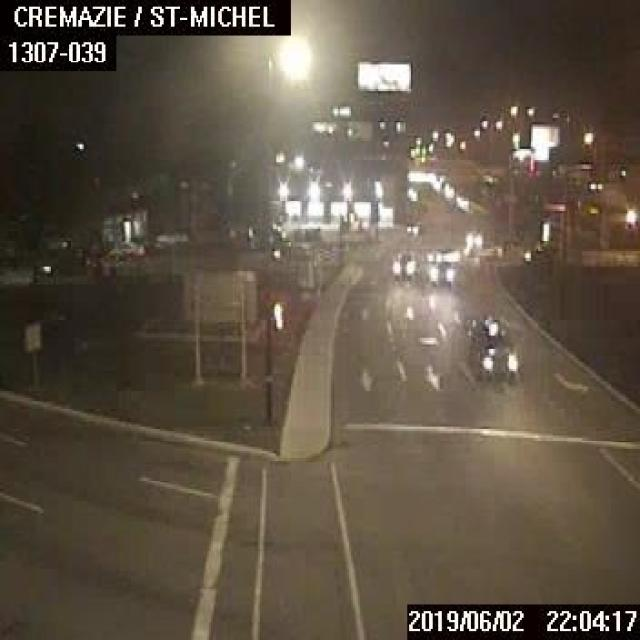vehicle: (464, 313, 518, 380), (424, 258, 453, 286), (391, 250, 414, 282), (520, 244, 556, 263), (107, 239, 145, 256), (463, 228, 482, 248), (405, 220, 420, 235)
